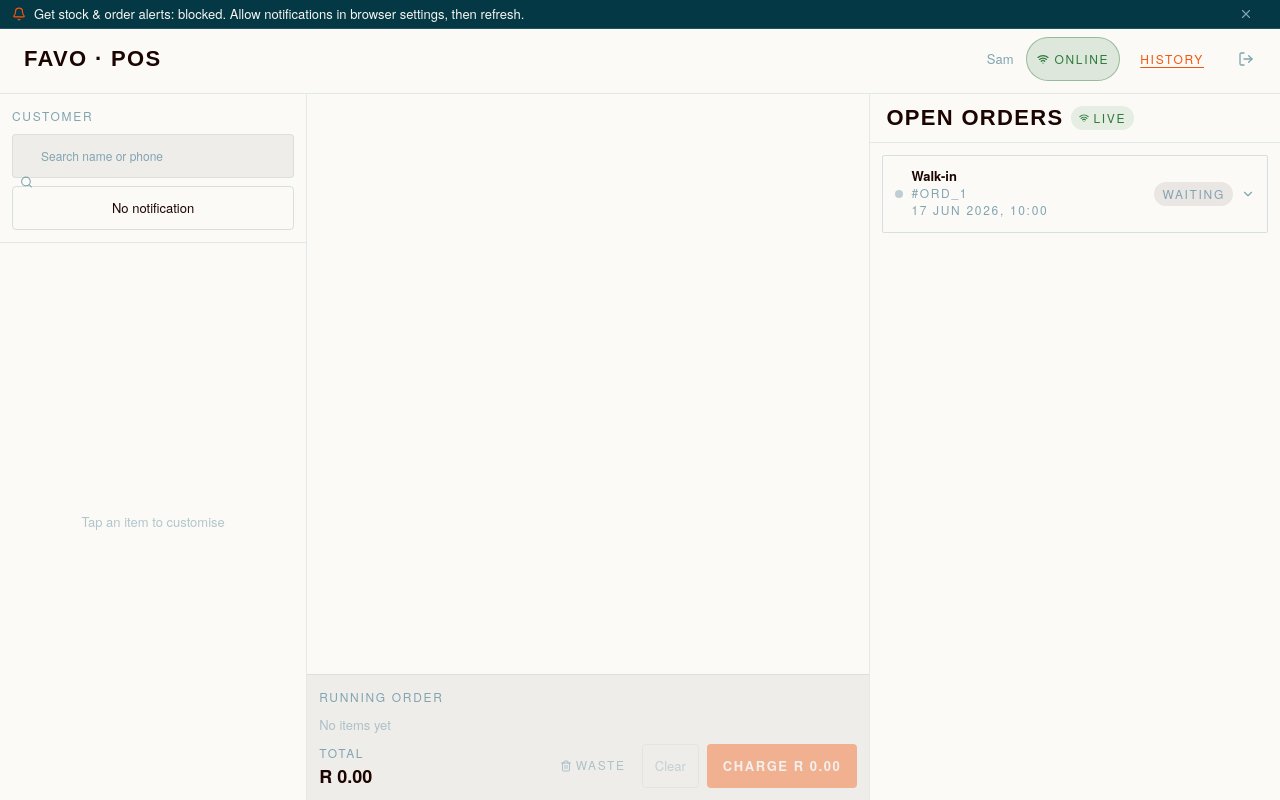
Test: queue payment gate (L01) › free-cup Decline hides on the queue card while its Take-payment dialog is open
Click the text "#ORD_1".
click(940, 192)  # box left=911, top=184, right=968, bottom=201
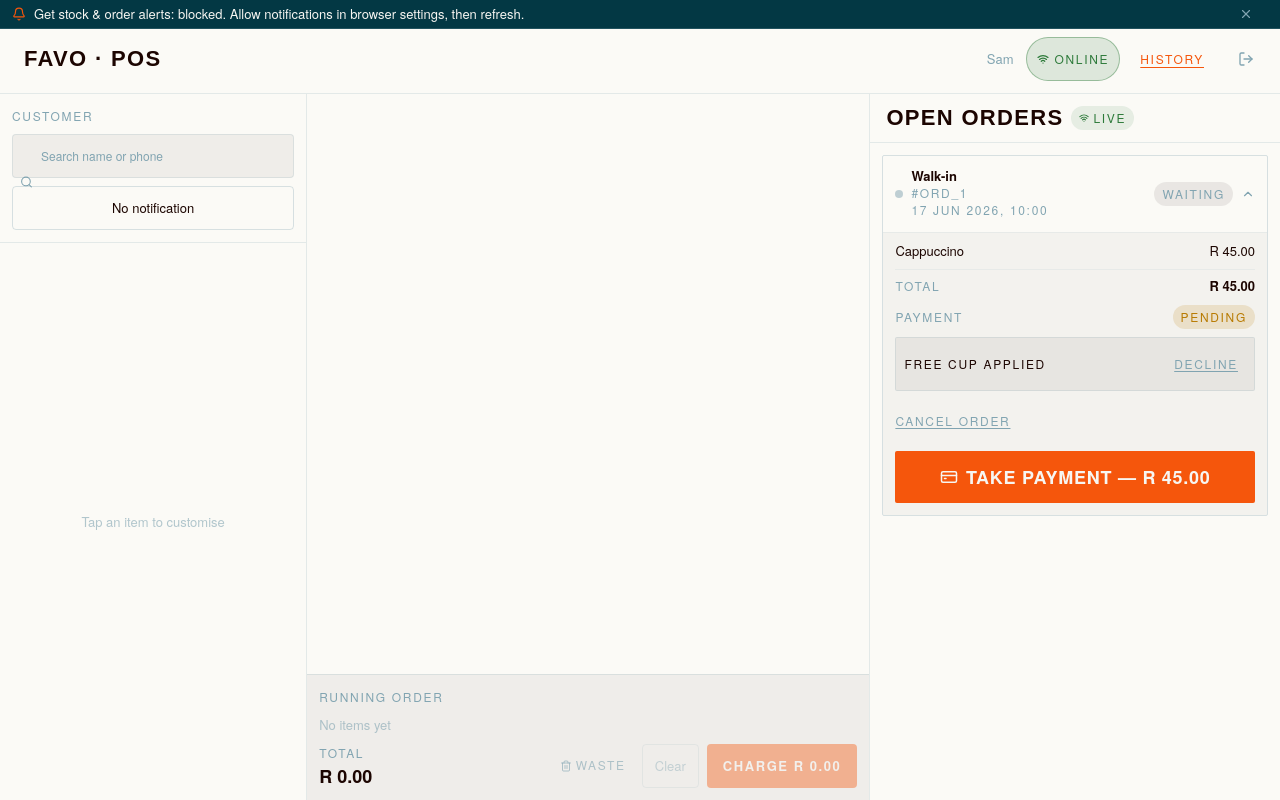
Now the button "Decline" is shown, box left=1166, top=342, right=1246, bottom=386
Click the button "Take payment — R 45.00".
click(1075, 477)  # box left=895, top=451, right=1255, bottom=503
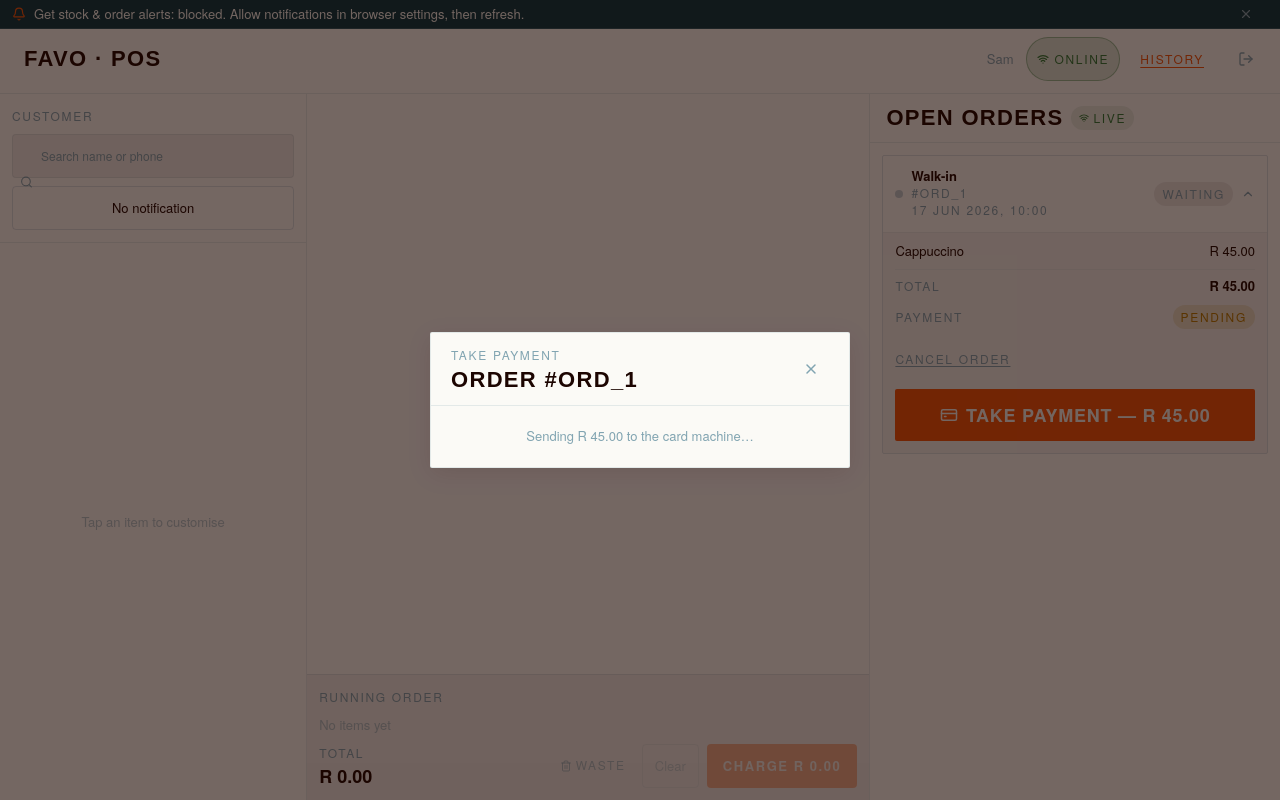
Now the dialog "Take payment" is shown
Now the button "Decline" is gone
